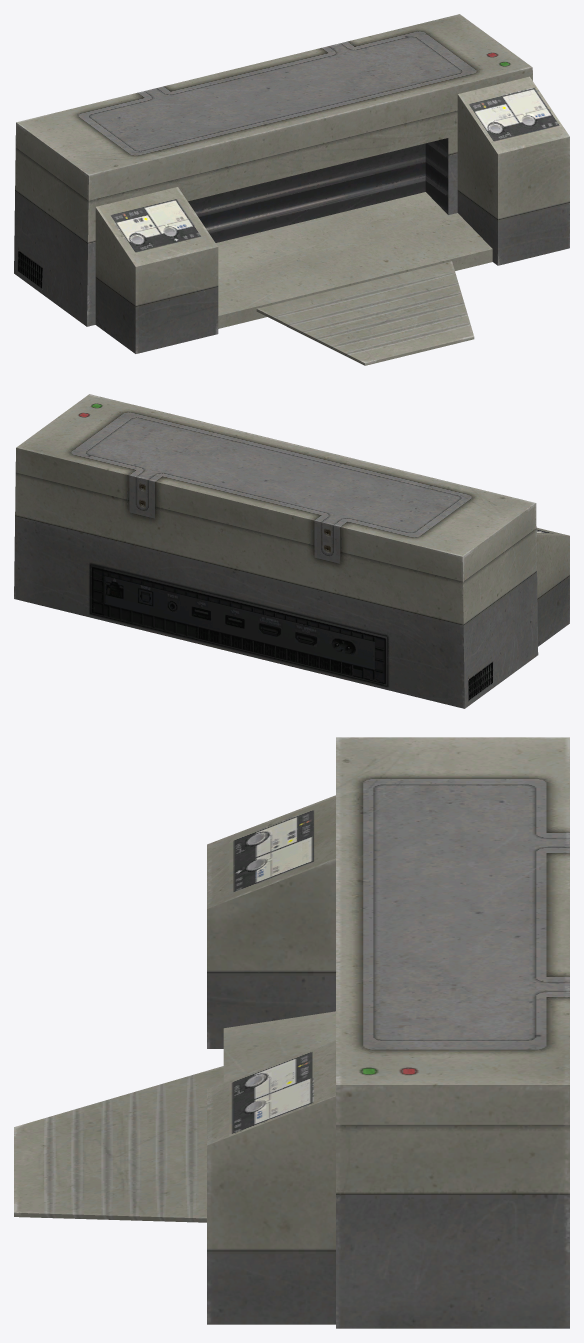
Rendered from Prop_Fyi01.glb.
3 renders of one model, top to bottom at view 1: azimuth 30°, elevation 25°; view 2: azimuth 150°, elevation 25°; view 3: azimuth 270°, elevation 25°, orthographic. The views are drawn at different scales.
Visible parts, largest first — view 1: xiutz_fyi_01; view 2: xiutz_fyi_01; view 3: xiutz_fyi_01.
Part boxes in pixels (<box>): xiutz_fyi_01: <box>14,14,569,365</box>; xiutz_fyi_01: <box>14,394,569,708</box>; xiutz_fyi_01: <box>14,737,569,1328</box>.
Size of the model in its own units: 0.9124 by 0.3109 by 0.6112.
Materials: 1 (1 with a texture image).
